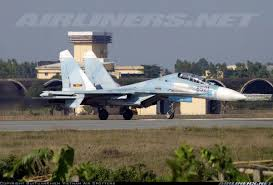maybay_muctieu: (48, 50, 245, 124)
